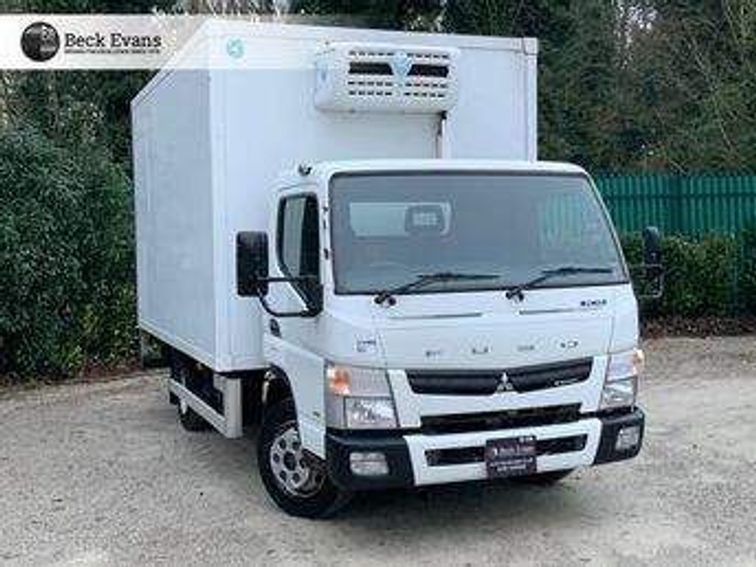Semi: (128, 19, 645, 518)
